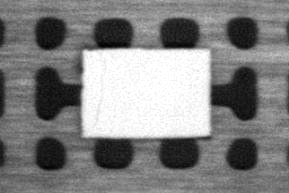DIE_CRACK: (91, 55, 106, 128)
